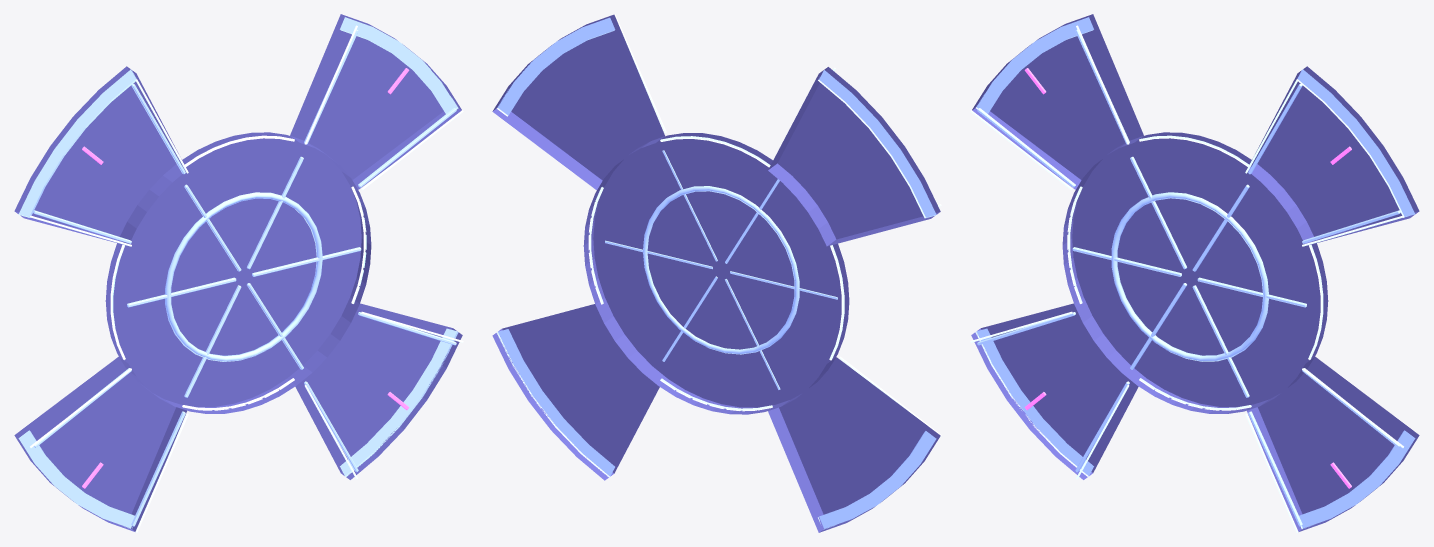
Rendered from prism-panel-fun6-medium.glb.
3 views of the same model, side by side, from view 1: azimuth 30°, elevation 25°; view 2: azimuth 150°, elevation 25°; view 3: azimuth 330°, elevation 25° (orthographic).
Parts seen in each view (by area): view 1: RENDER_PANEL_SHELL, RENDER_PANEL_FRAME, RENDER_PANEL_SIGNAL, RENDER_PANEL_HAZARD; view 2: RENDER_PANEL_SHELL, RENDER_PANEL_FRAME, RENDER_PANEL_SIGNAL; view 3: RENDER_PANEL_SHELL, RENDER_PANEL_FRAME, RENDER_PANEL_SIGNAL, RENDER_PANEL_HAZARD.
Boxes of the visible parts, left/top/right/bottom form: RENDER_PANEL_SHELL: left=14, top=14, right=462, bottom=531; RENDER_PANEL_FRAME: left=18, top=17, right=458, bottom=528; RENDER_PANEL_SIGNAL: left=30, top=25, right=463, bottom=532; RENDER_PANEL_HAZARD: left=82, top=68, right=409, bottom=488; RENDER_PANEL_SHELL: left=492, top=14, right=940, bottom=532; RENDER_PANEL_FRAME: left=496, top=17, right=936, bottom=529; RENDER_PANEL_SIGNAL: left=588, top=14, right=941, bottom=436; RENDER_PANEL_SHELL: left=971, top=14, right=1419, bottom=531; RENDER_PANEL_FRAME: left=975, top=17, right=1415, bottom=529; RENDER_PANEL_SIGNAL: left=970, top=25, right=1403, bottom=532; RENDER_PANEL_HAZARD: left=1024, top=68, right=1351, bottom=488.
Size of what is drawn, in the model's own units: 36.85 by 36.85 by 1.95.
